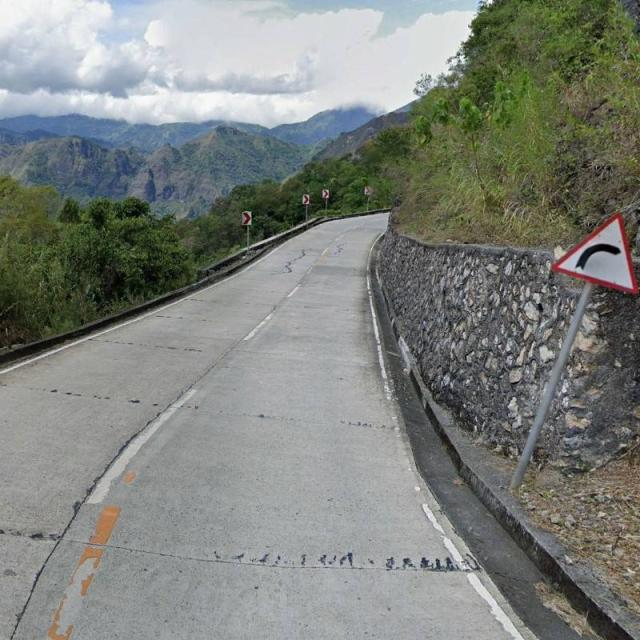warn_right_curve: (551, 213, 637, 296)
